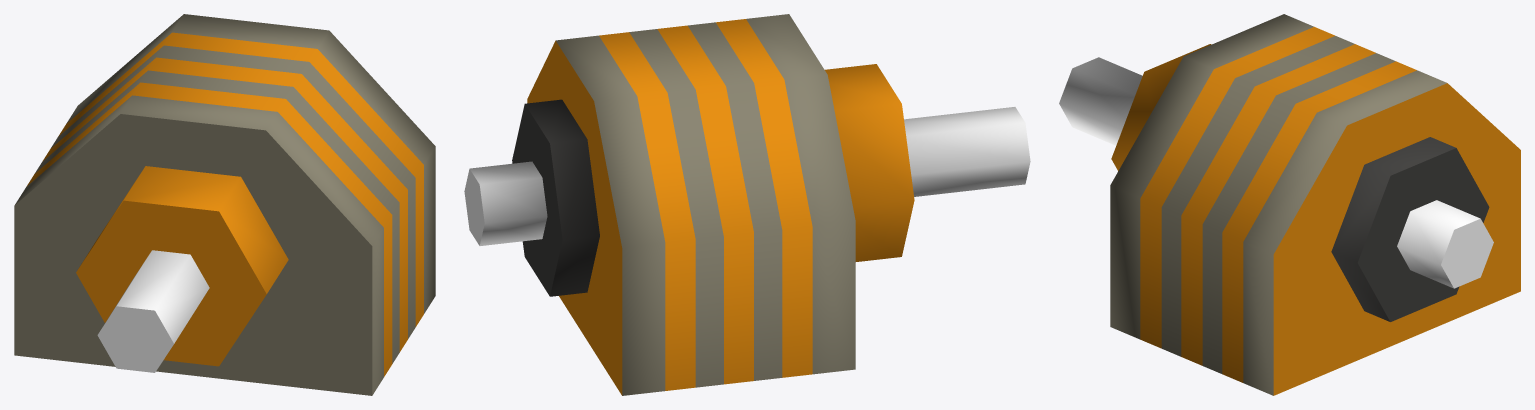
The model's file is motor.glb.
The picture shows the model from 3 angles, left to right: view 1: azimuth 30°, elevation 25°; view 2: azimuth 150°, elevation 25°; view 3: azimuth 270°, elevation 25°; orthographic projection. The views are drawn at different scales.
Visible parts, largest first — view 1: Cube.021; view 2: Cube.021; view 3: Cube.021.
Part boxes in pixels (x1,y1,x2,y2): Cube.021: (14, 14, 435, 395); Cube.021: (464, 14, 1030, 395); Cube.021: (1059, 14, 1520, 395).
Bounding box in the file's own units: 5 × 2.86 × 5.
Materials: 1 (1 with a texture image).
